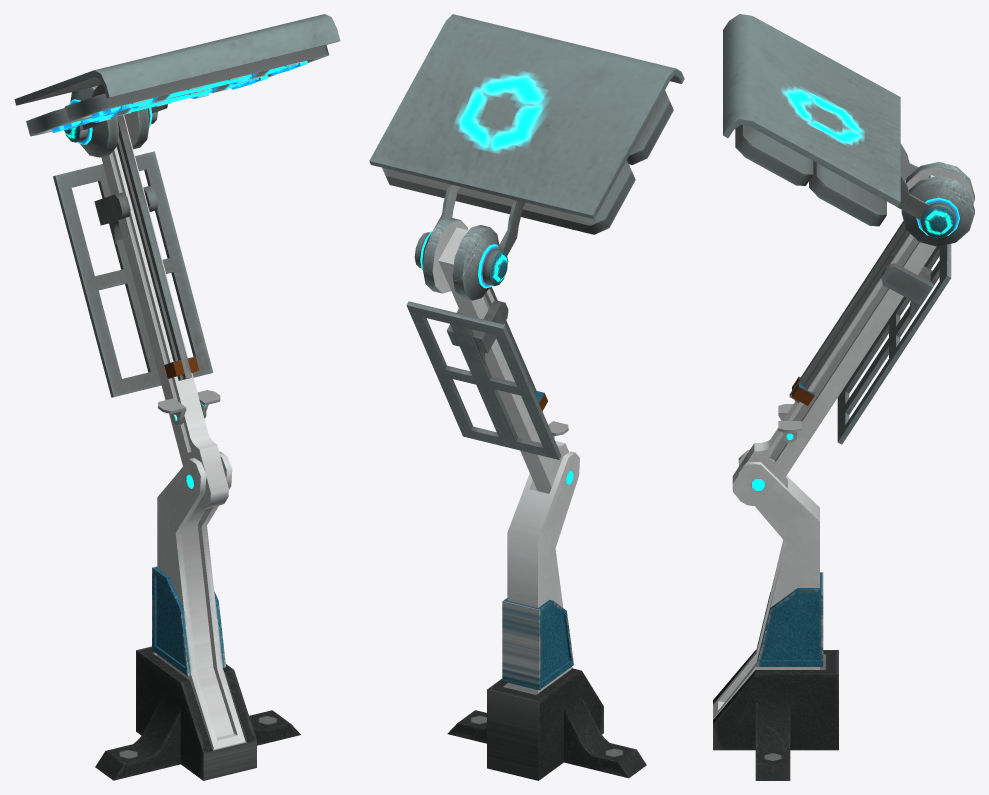
File: neon4b.fbx
The picture shows the model from 3 angles, left to right: view 1: azimuth 30°, elevation 25°; view 2: azimuth 150°, elevation 25°; view 3: azimuth 270°, elevation 25°; orthographic projection. The views are drawn at different scales.
Parts seen in each view (by area): view 1: Neon4b; view 2: Neon4b; view 3: Neon4b.
Boxes of the visible parts, bbox=[...] form: Neon4b: bbox=[14, 14, 340, 780]; Neon4b: bbox=[369, 14, 684, 780]; Neon4b: bbox=[713, 14, 974, 780].
Bounding box in the file's own units: 58.55 × 173 × 61.08.
1 material, 1 textured.
